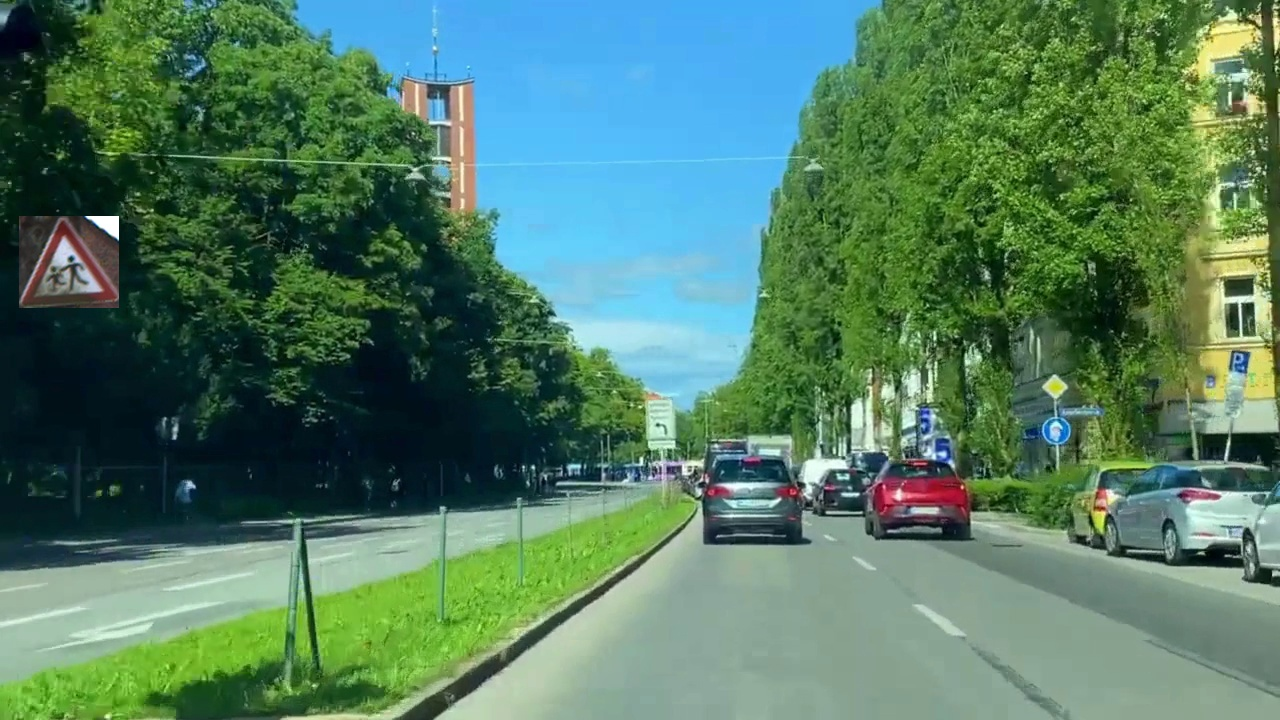Children: (19, 216, 119, 308)
